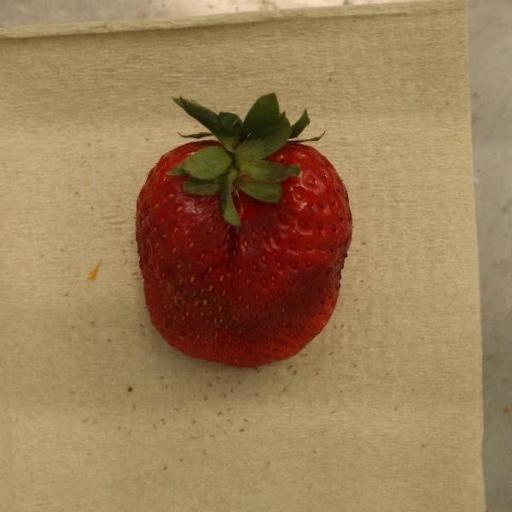Strawberry: (136, 93, 353, 369)
